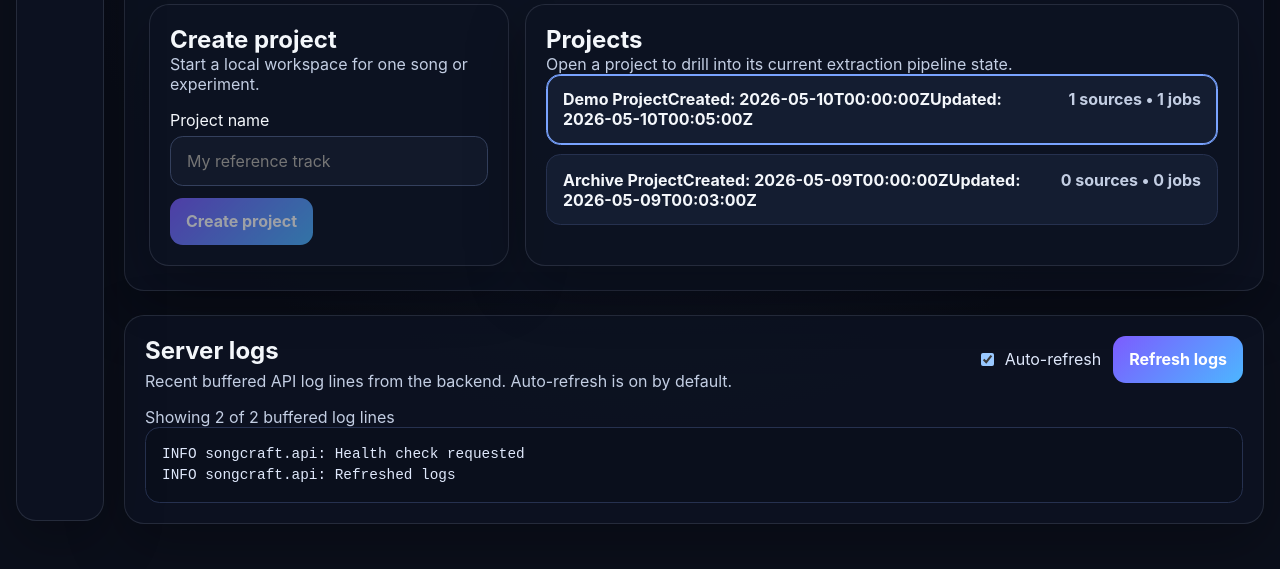
Test case: App › keeps manual source overrides available after ingest fails
Click the button with aria-label "Open project Demo Project". click: (882, 109)
box: [546,74,1218,145]
(page scrolled)
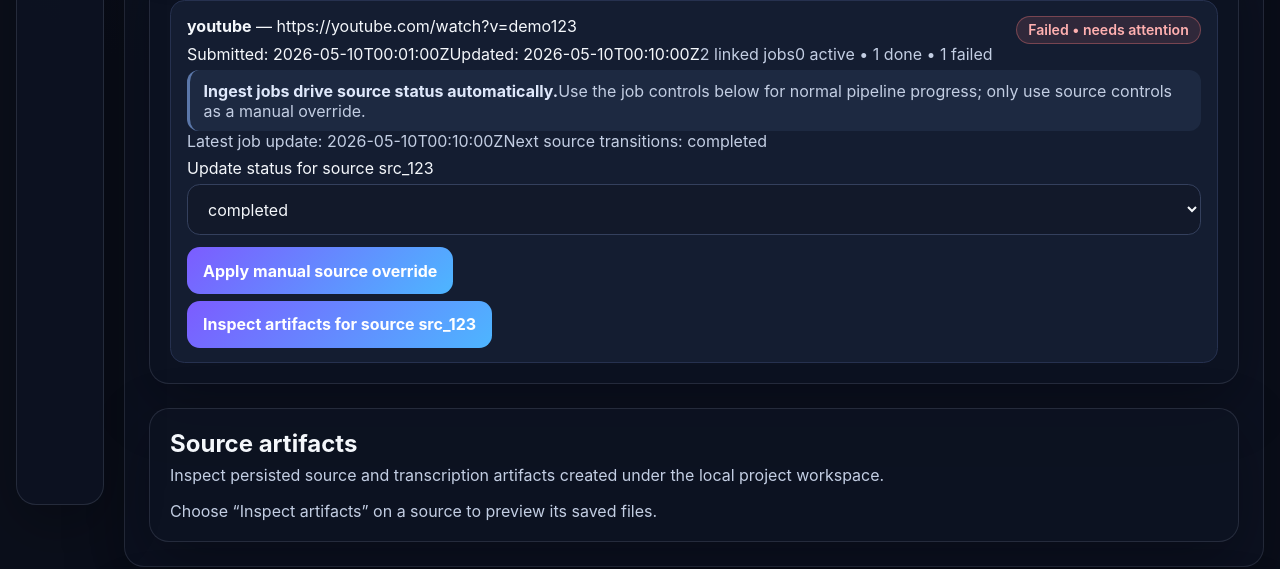
Check: the text "Next source transitions: completed" is shown, box [503,131,767,151]
Select "completed" in the dropdown labelled "Update status for source src_123". click: (694, 210)
box: [187,184,1201,235]
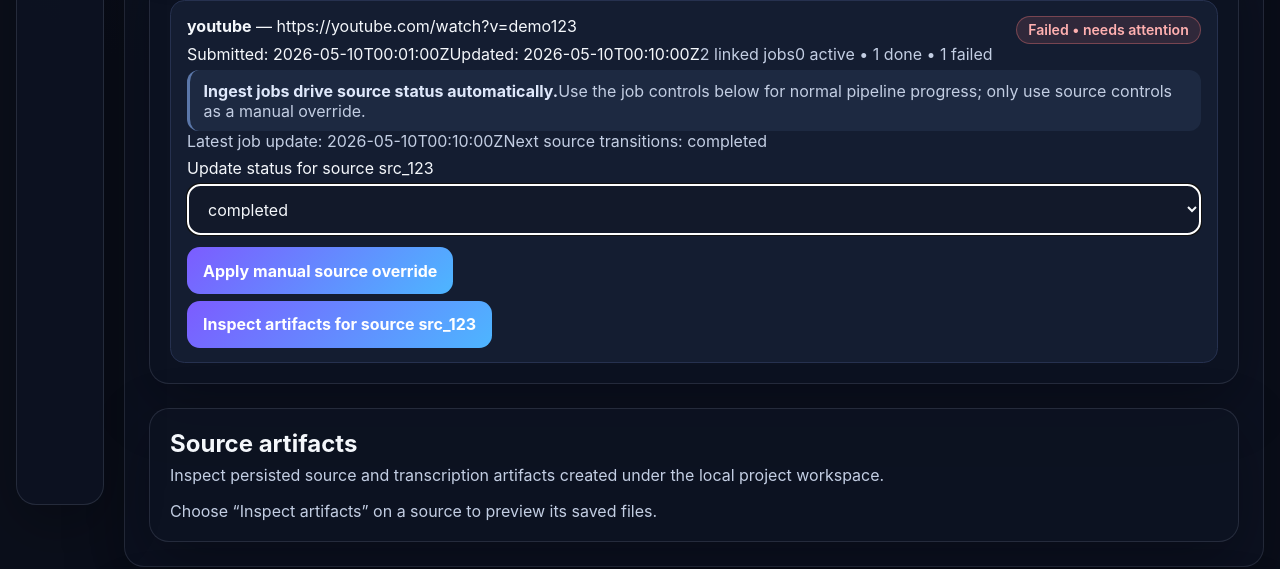
Click the button "Apply manual source override". click: (320, 271)
box: [187,247,453,294]
(page scrolled)
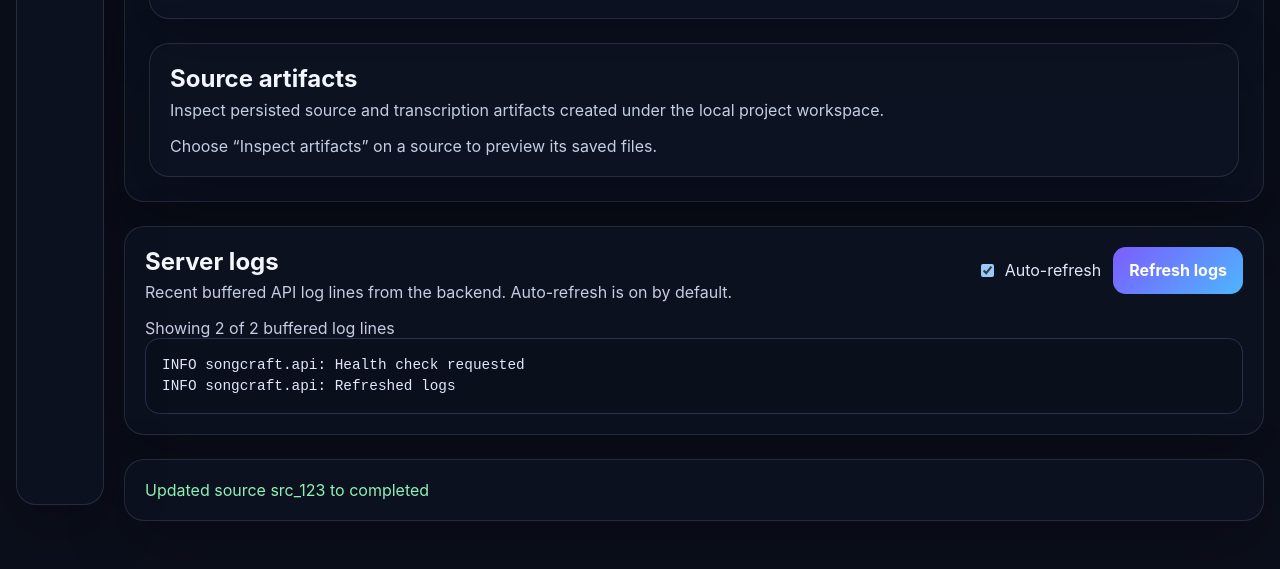
Check: the text "Updated source src_123 to completed" is shown, box [145,480,429,500]
